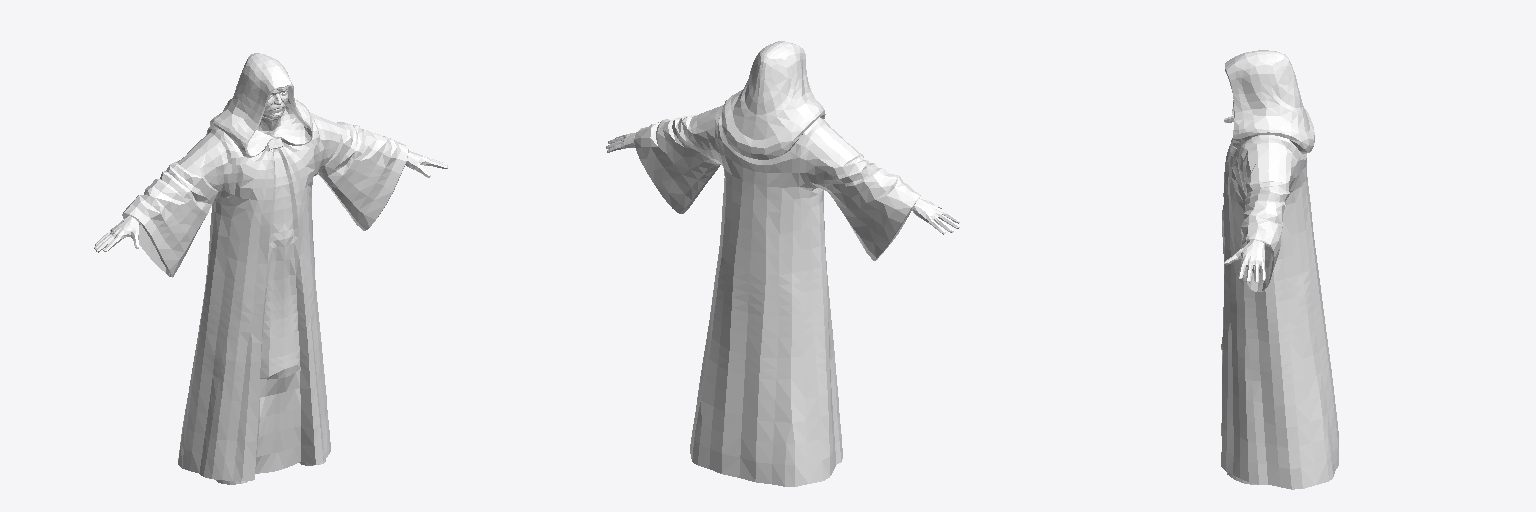
Rendered from Darth_Sidious.obj.
The picture shows the model from 3 angles: view 1: azimuth 30°, elevation 25°; view 2: azimuth 150°, elevation 25°; view 3: azimuth 270°, elevation 25°; orthographic projection.
Parts seen in each view (by area): view 1: Object.1, Object.2; view 2: Object.1, Object.2; view 3: Object.1, Object.2.
Part boxes in pixels (x1,y1,x2,y2): Object.1: (122, 53, 408, 484); Object.2: (94, 87, 447, 252); Object.1: (634, 41, 920, 486); Object.2: (606, 133, 959, 234); Object.1: (1221, 50, 1338, 489); Object.2: (1224, 85, 1265, 282).
Size of the model in its own units: 84.99 by 94.25 by 24.74.